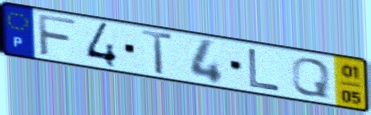4: (83, 21, 122, 71), (188, 36, 226, 86)
F: (35, 12, 79, 59)
L: (246, 47, 283, 93)
Q: (290, 57, 333, 100)
T: (140, 28, 176, 77)
